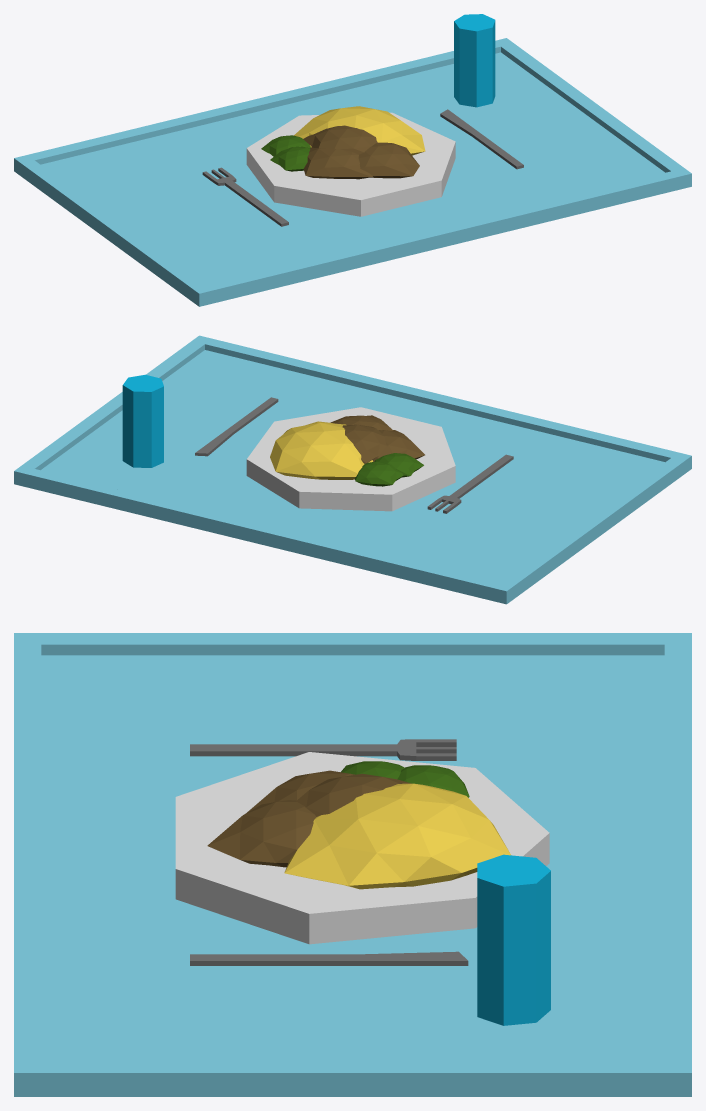
The model's file is meal.fbx.
3 renders of one model, top to bottom at view 1: azimuth 30°, elevation 25°; view 2: azimuth 150°, elevation 25°; view 3: azimuth 270°, elevation 25°, orthographic. The views are drawn at different scales.
Parts seen in each view (by area): view 1: Circle.001; view 2: Circle.001; view 3: Circle.001.
Boxes of the visible parts, left/top/right/bottom form: Circle.001: left=14, top=14, right=691, bottom=306; Circle.001: left=14, top=335, right=691, bottom=604; Circle.001: left=14, top=633, right=691, bottom=1096.
Bounding box in the file's own units: 52.85 × 8.64 × 34.43.
